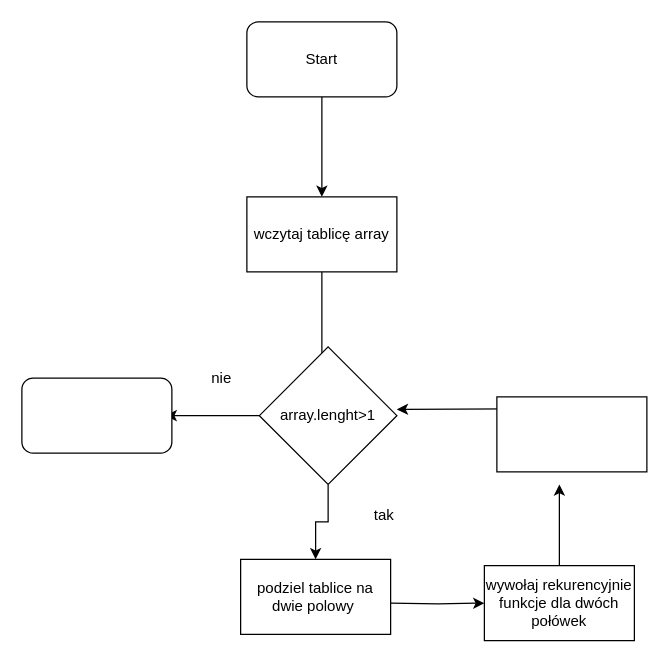
Some shapes in this 669 by 663 pixel diagram are drawn without their labels. Each missing label, with the box of its shape:
scal dwie tablice: (496, 396, 647, 472)
stop: (21, 377, 172, 453)
